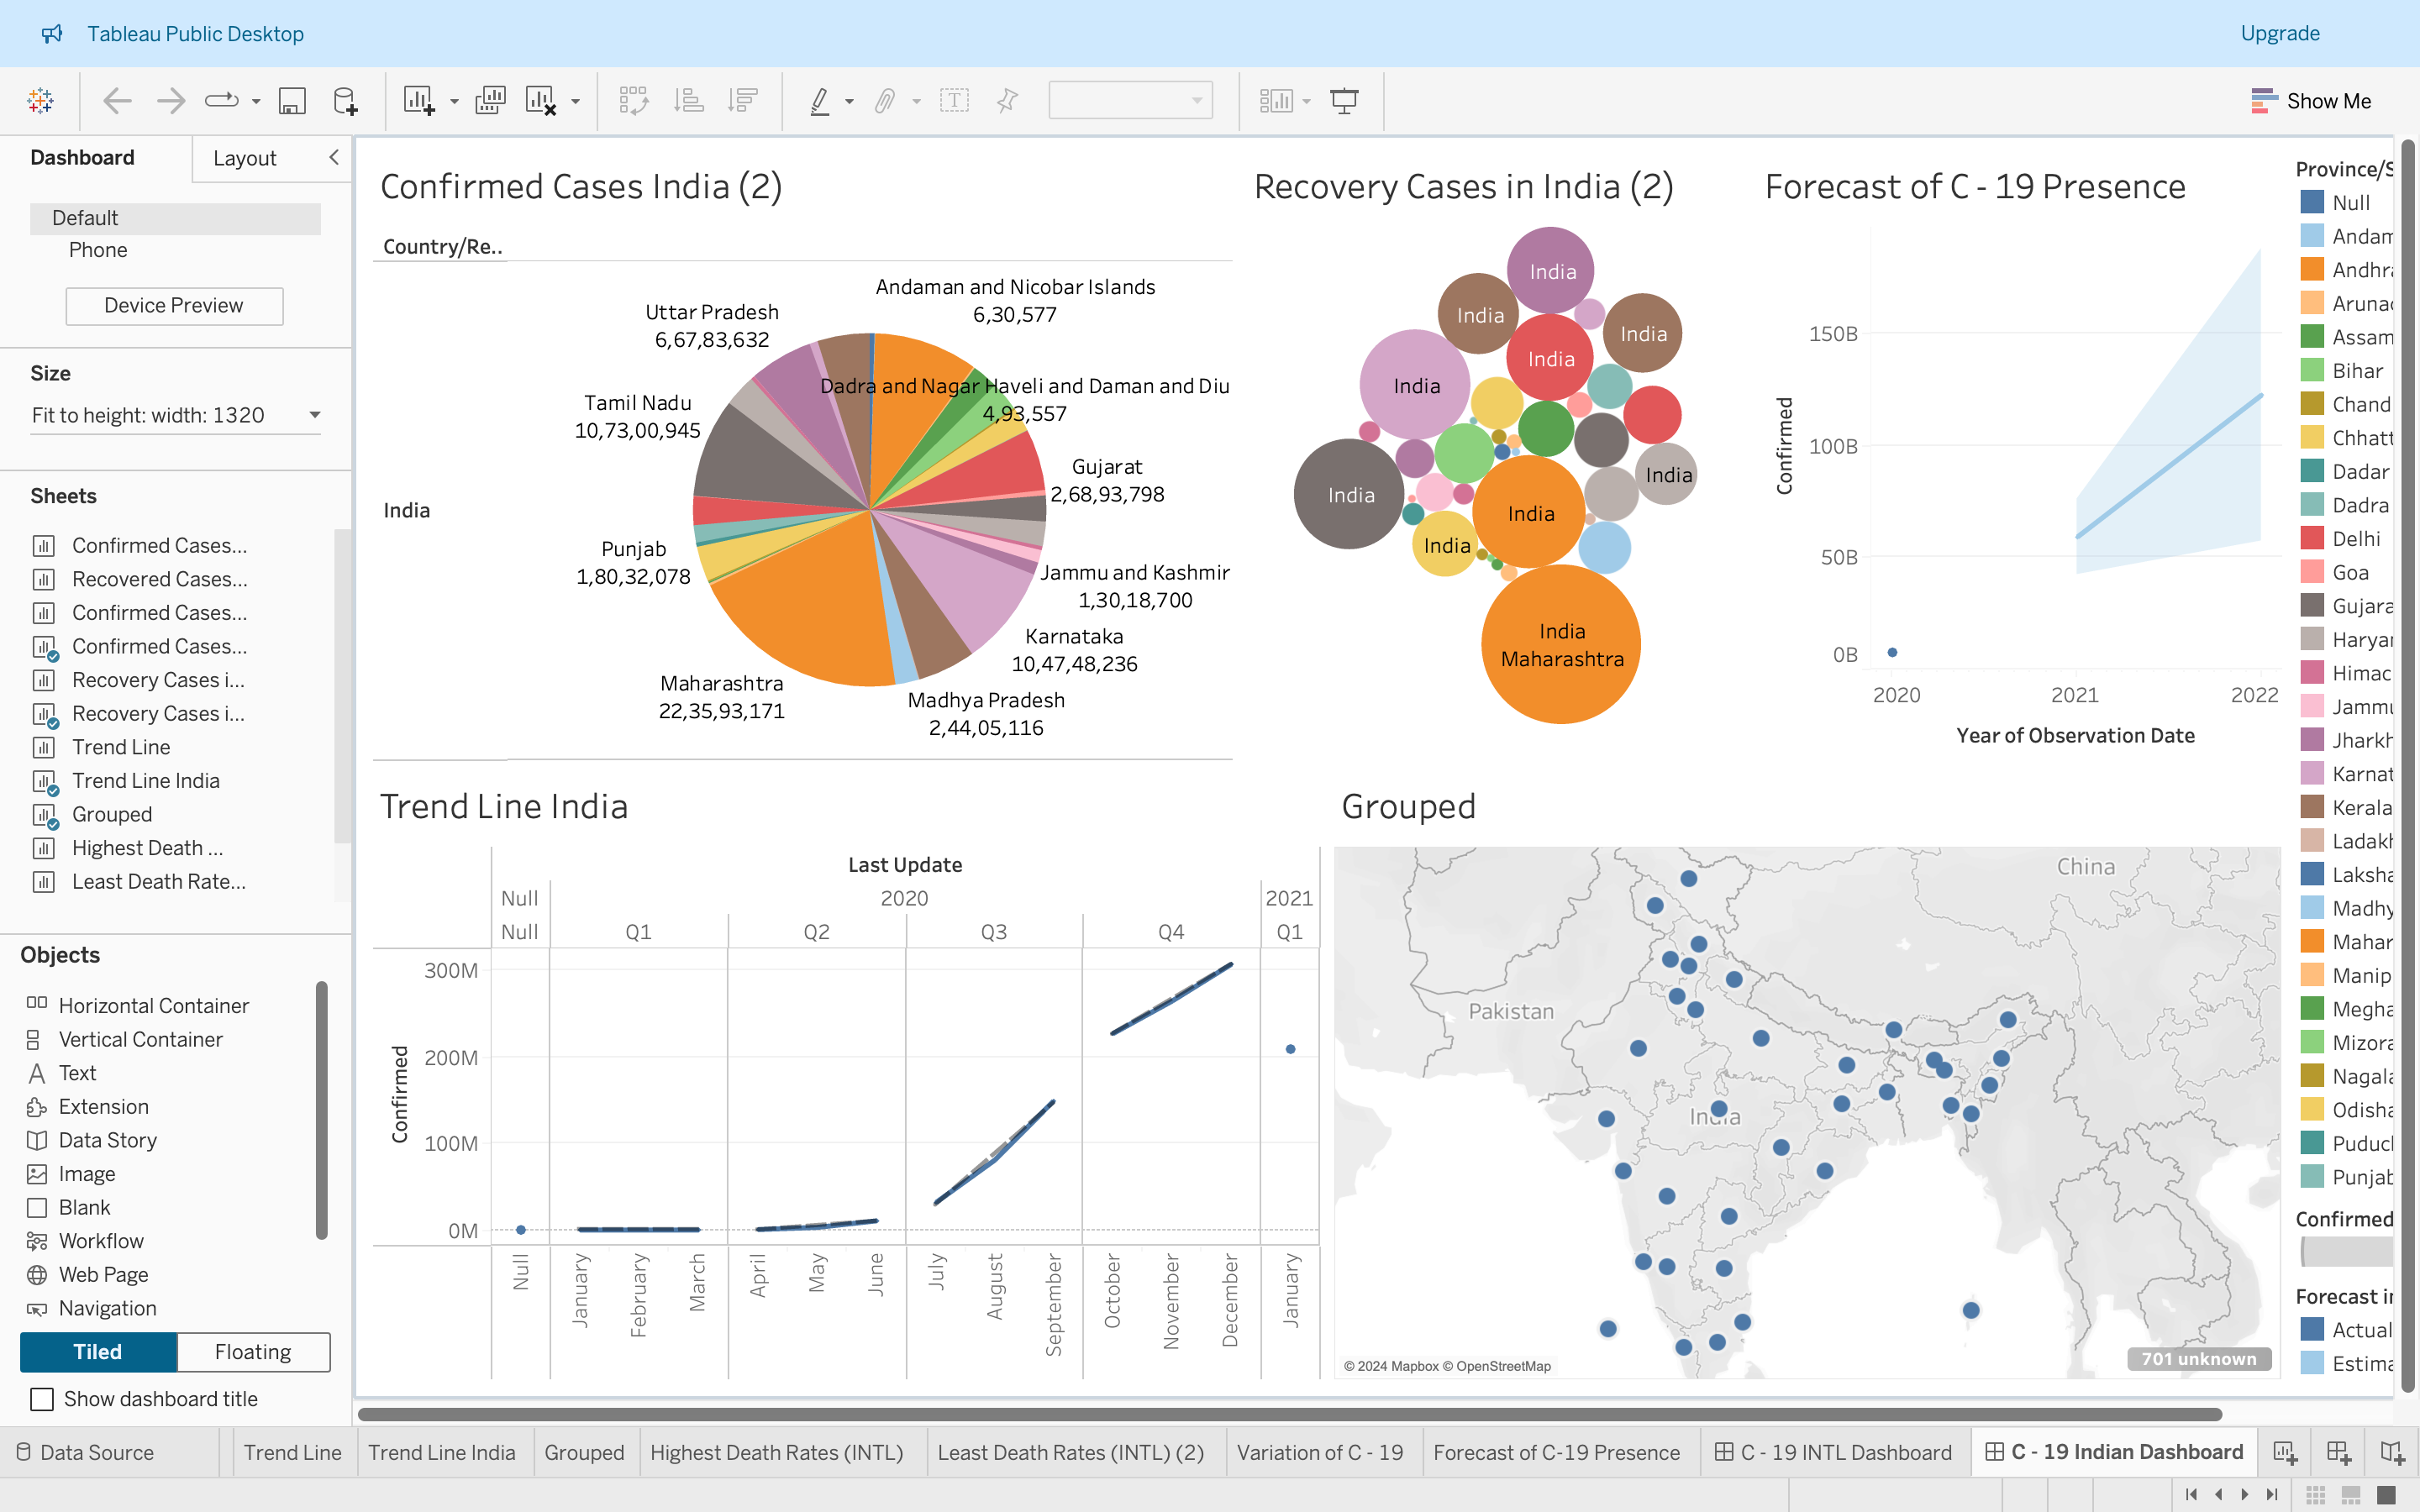

The page's visual inventory and layout, read from the dashboard file:
{"tool":"tableau","page":{"name":"C - 19 Indian Dashboard","canvas":[1000,1000],"units":"permille","ordinal":1},"visuals":[{"type":"worksheet","title":"Confirmed Cases India (2)","mark":"Pie","rows":["Country/Region"],"box":[6.1,12.6,393.9,487.4]},{"type":"worksheet","title":"Recovery Cases in India (2)","mark":"Circle","box":[400,12.6,230.3,487.4]},{"type":"worksheet","title":"Forecast of C-19 Presence","mark":"Automatic","rows":["Confirmed"],"cols":["ObservationDate"],"box":[630.3,12.6,242.4,487.4]},{"type":"legend","title":"Confirmed Cases India (2)","param":"[federated.0l8bq7n0iot19q14a57570e5q0ra].[none:Province/State:nk]","box":[872.7,12.6,121.2,798.1]},{"type":"worksheet","title":"Trend Line India","mark":"Line","rows":["Confirmed"],"cols":["Last Update","Last Update","Last Update"],"box":[6.1,500,433.3,487.4]},{"type":"worksheet","title":"Grouped","mark":"Automatic","box":[439.4,500,433.3,487.4]},{"type":"legend","title":"Confirmed Cases India (2)","param":"[federated.0l8bq7n0iot19q14a57570e5q0ra].[sum:Confirmed:qk]","box":[872.7,810.7,121.2,72.6]},{"type":"legend","title":"Forecast of C-19 Presence","param":"[federated.0l8bq7n0iot19q14a57570e5q0ra].[none:Forecast Indicator:nk]","box":[872.7,883.3,121.2,104.1]}]}

Visuals, with their boxes on the dashboard's canvas, which has no fixed pixel size, in thousandths of its width and height (x1, y1, x2, y2). These are canvas units, not pixel positions in the 2420x1512 screenshot, which may show the page scaled, cropped or inside an application window:
"Confirmed Cases India (2)" worksheet (Pie marks): <region>6, 13, 400, 500</region>
"Recovery Cases in India (2)" worksheet (Circle marks): <region>400, 13, 630, 500</region>
"Forecast of C-19 Presence" worksheet: <region>630, 13, 873, 500</region>
"Confirmed Cases India (2)" legend: <region>873, 13, 994, 811</region>
"Trend Line India" worksheet (Line marks): <region>6, 500, 439, 987</region>
"Grouped" worksheet: <region>439, 500, 873, 987</region>
"Confirmed Cases India (2)" legend: <region>873, 811, 994, 883</region>
"Forecast of C-19 Presence" legend: <region>873, 883, 994, 987</region>
